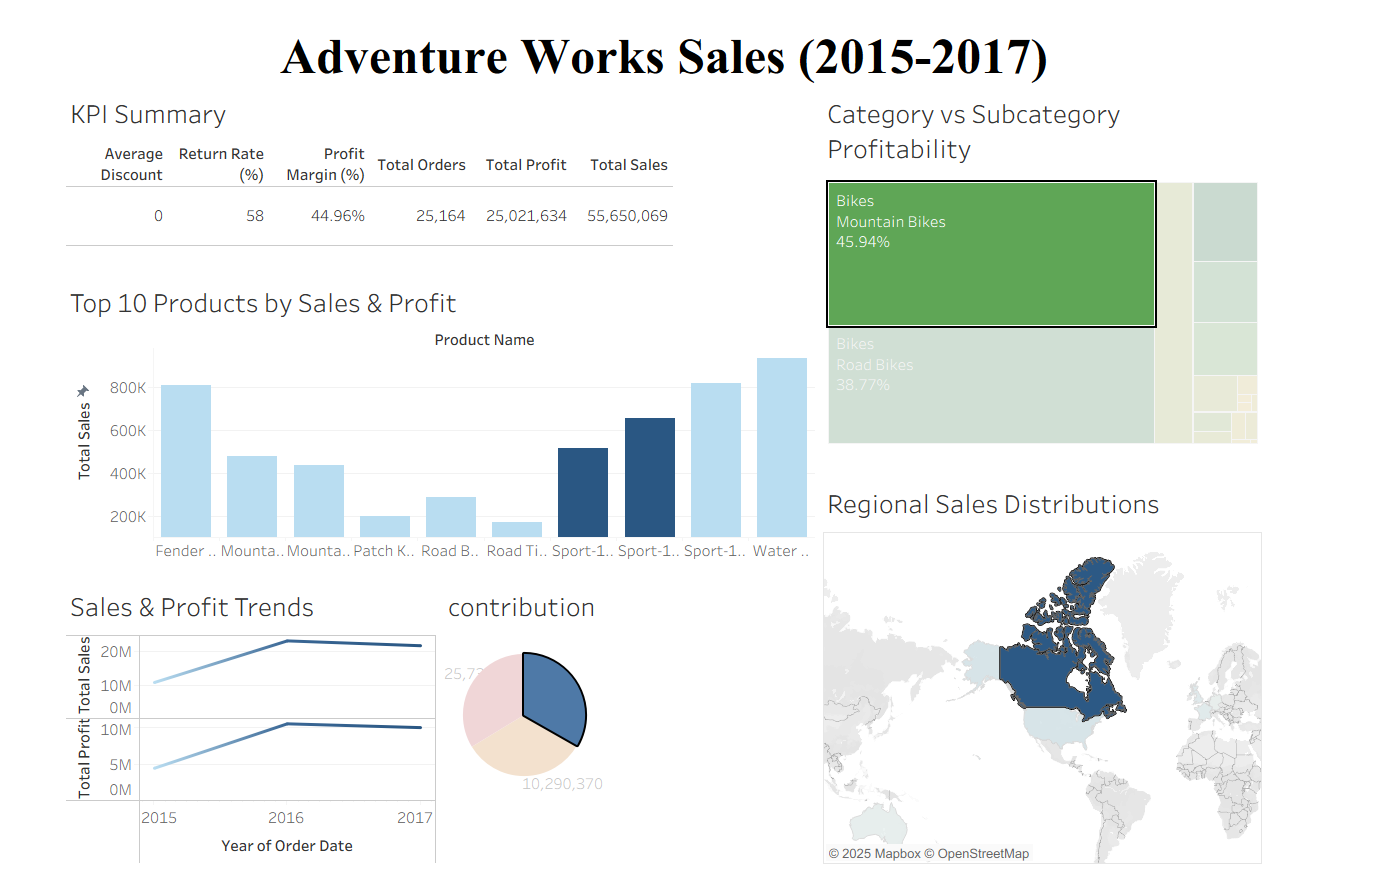

This screenshot's page, from the dashboard's own definition file:
{"tool":"tableau","page":{"name":"Dashboard 2","canvas":[1000,1000],"units":"permille","ordinal":0},"visuals":[{"type":"title","box":[6.6,9.3,986.9,74.4]},{"type":"worksheet","title":"KPI Summary","mark":"Automatic","box":[6.6,83.7,620.6,219.9]},{"type":"worksheet","title":"Category vs Subcategory Profitability","mark":"Automatic","box":[627.1,83.7,366.3,453.4]},{"type":"worksheet","title":"Top 10 Products by Sales & Profit","mark":"Automatic","rows":["Calculation_162129651328450560"],"cols":["ProductName"],"box":[6.6,303.7,620.6,353.6]},{"type":"worksheet","title":"Regional Sales Distributions","mark":"Automatic","box":[627.1,537.1,366.3,453.6]},{"type":"worksheet","title":"Sales & Profit Trends","mark":"Automatic","rows":["Calculation_162129651328450560","Calculation_162129651328724993"],"cols":["OrderDate"],"box":[6.6,657.2,310.2,333.5]},{"type":"worksheet","title":"contribution","mark":"Pie","box":[316.8,657.2,310.3,333.5]}]}

Visuals, with their boxes on the dashboard's canvas, which has no fixed pixel size, in thousandths of its width and height (x1, y1, x2, y2). These are canvas units, not pixel positions in the 1385x895 screenshot, which may show the page scaled, cropped or inside an application window:
title: <box>7,9,994,84</box>
"KPI Summary" worksheet: <box>7,84,627,304</box>
"Category vs Subcategory Profitability" worksheet: <box>627,84,993,537</box>
"Top 10 Products by Sales & Profit" worksheet: <box>7,304,627,657</box>
"Regional Sales Distributions" worksheet: <box>627,537,993,991</box>
"Sales & Profit Trends" worksheet: <box>7,657,317,991</box>
"contribution" worksheet (Pie marks): <box>317,657,627,991</box>
